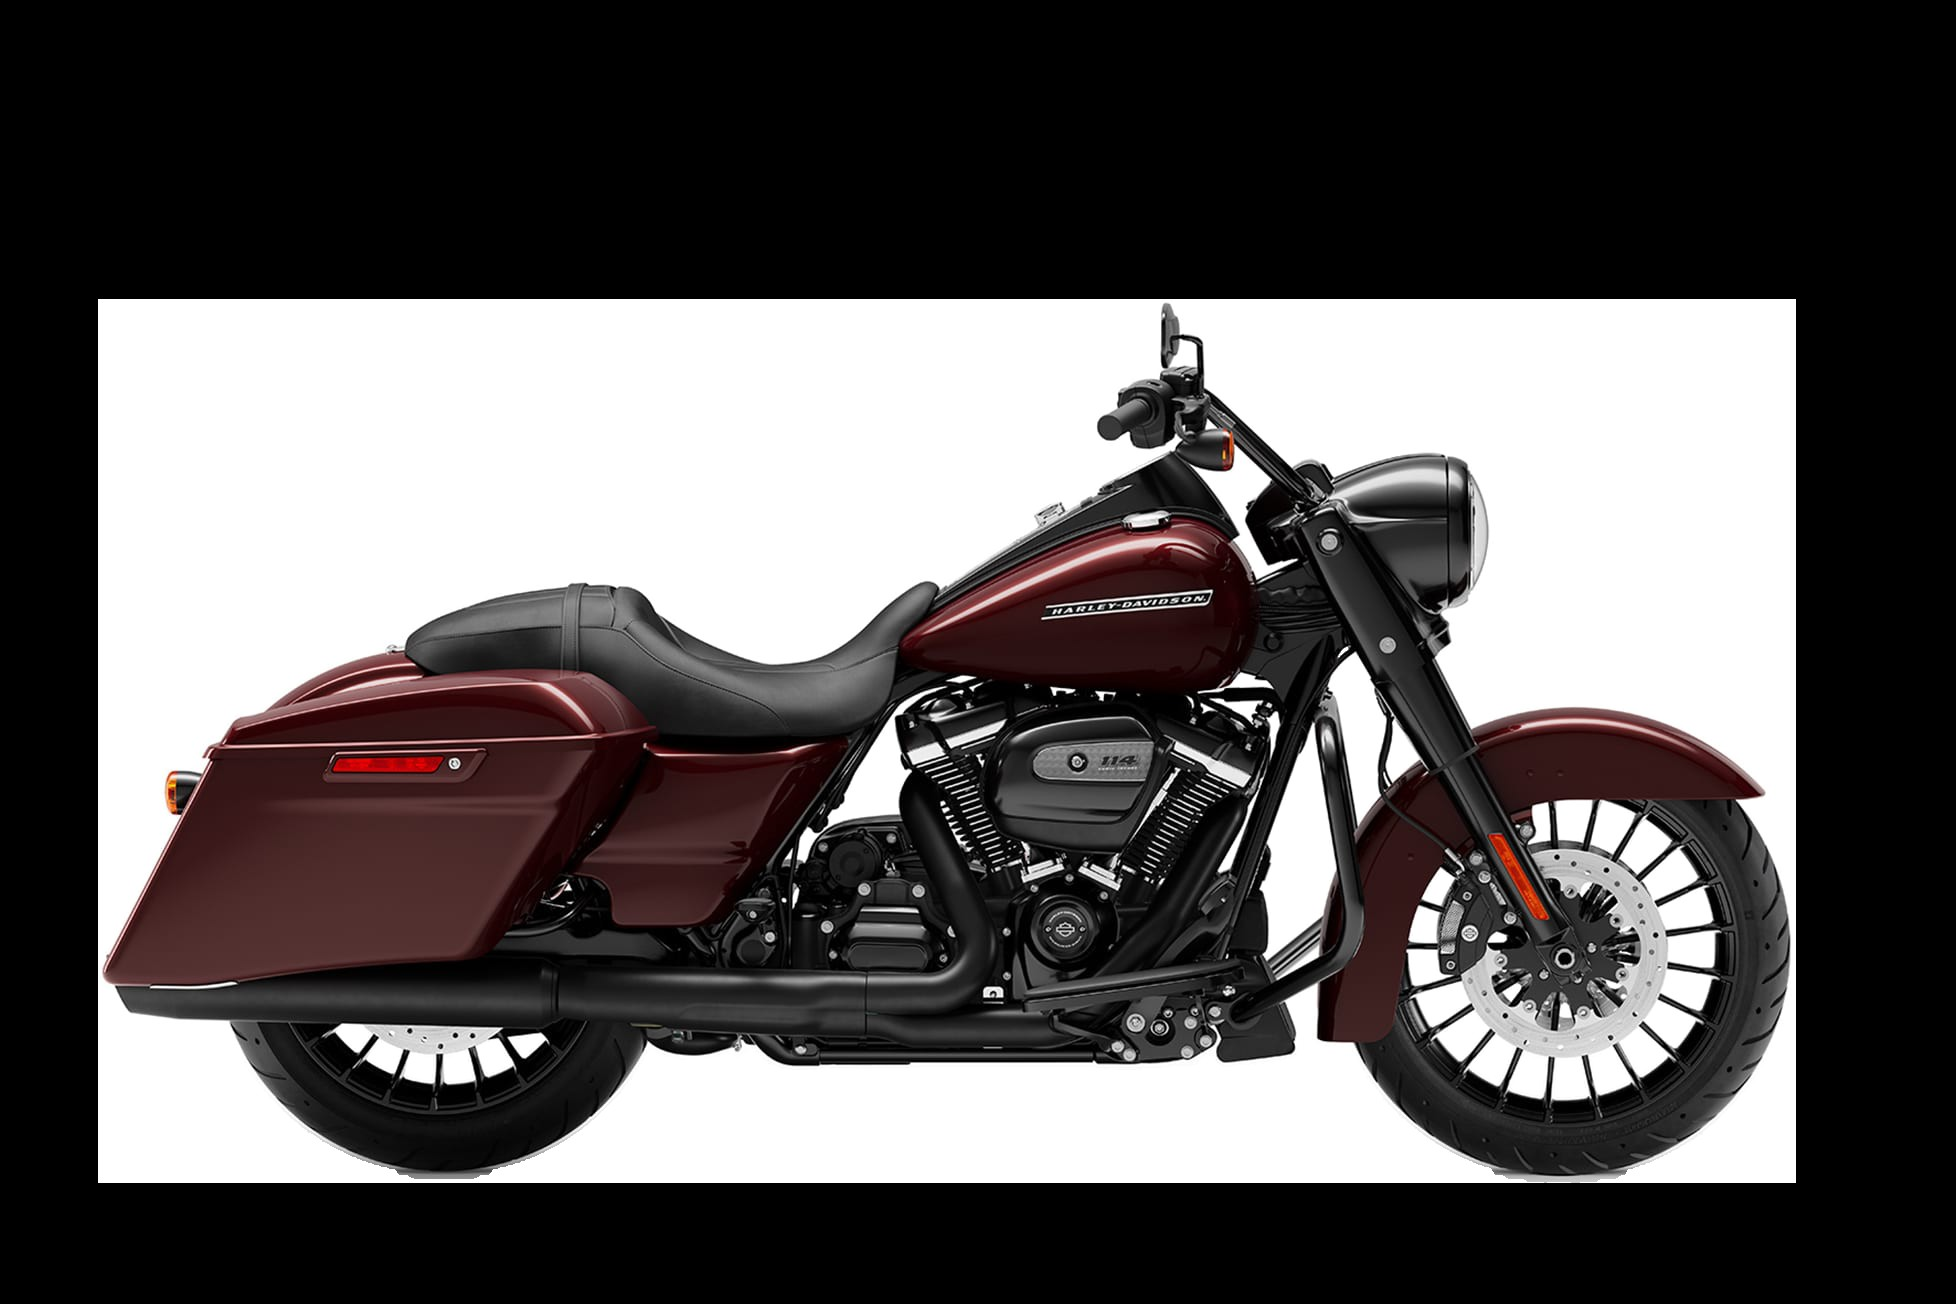motorcycle: (167, 378, 1789, 1169)
